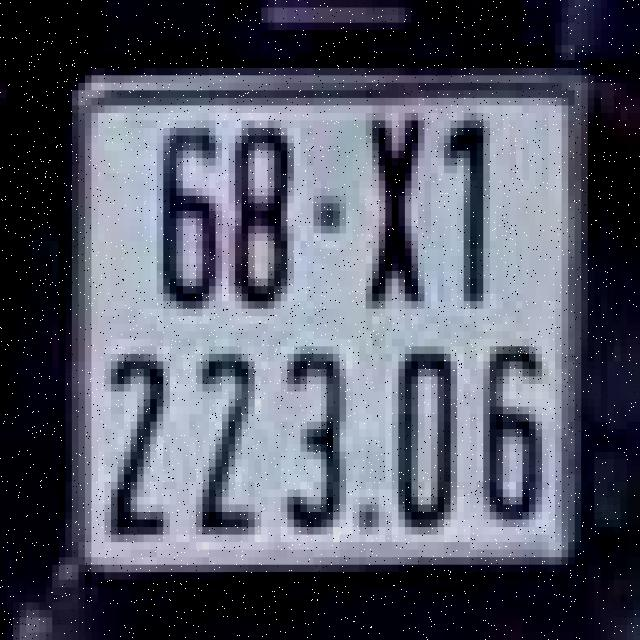0: (378, 342, 464, 546)
1: (444, 109, 496, 305)
2: (183, 331, 261, 542), (95, 342, 173, 546)
3: (274, 331, 353, 542)
6: (473, 323, 552, 534), (147, 117, 225, 320)
8: (232, 113, 290, 316)
X: (356, 102, 434, 320)
